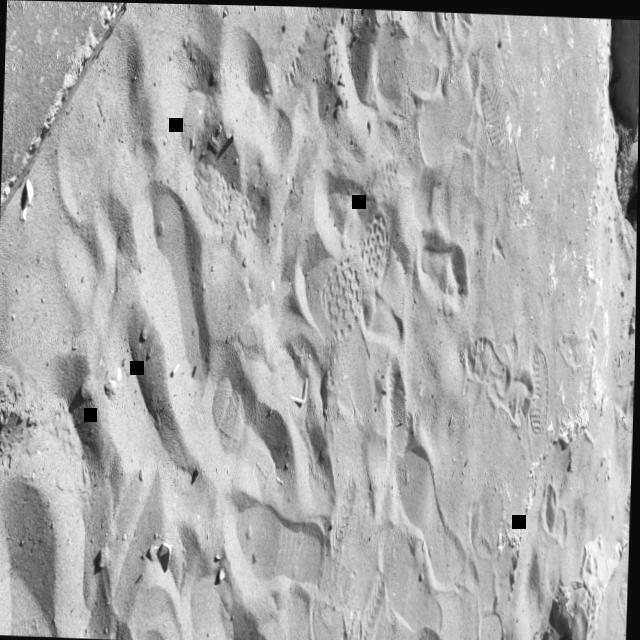Plastic straw: (292, 376, 308, 401)
Unlabeled litter: (155, 541, 172, 569), (22, 179, 32, 219)
